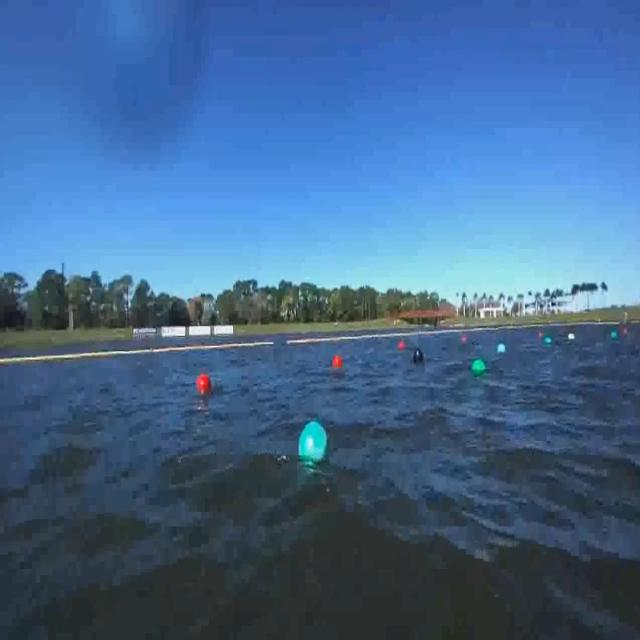black-buoy: (413, 348, 424, 364)
green-buoy: (300, 423, 329, 462), (470, 358, 485, 376)
red-buoy: (198, 373, 212, 392), (334, 355, 344, 368), (398, 342, 404, 352)
